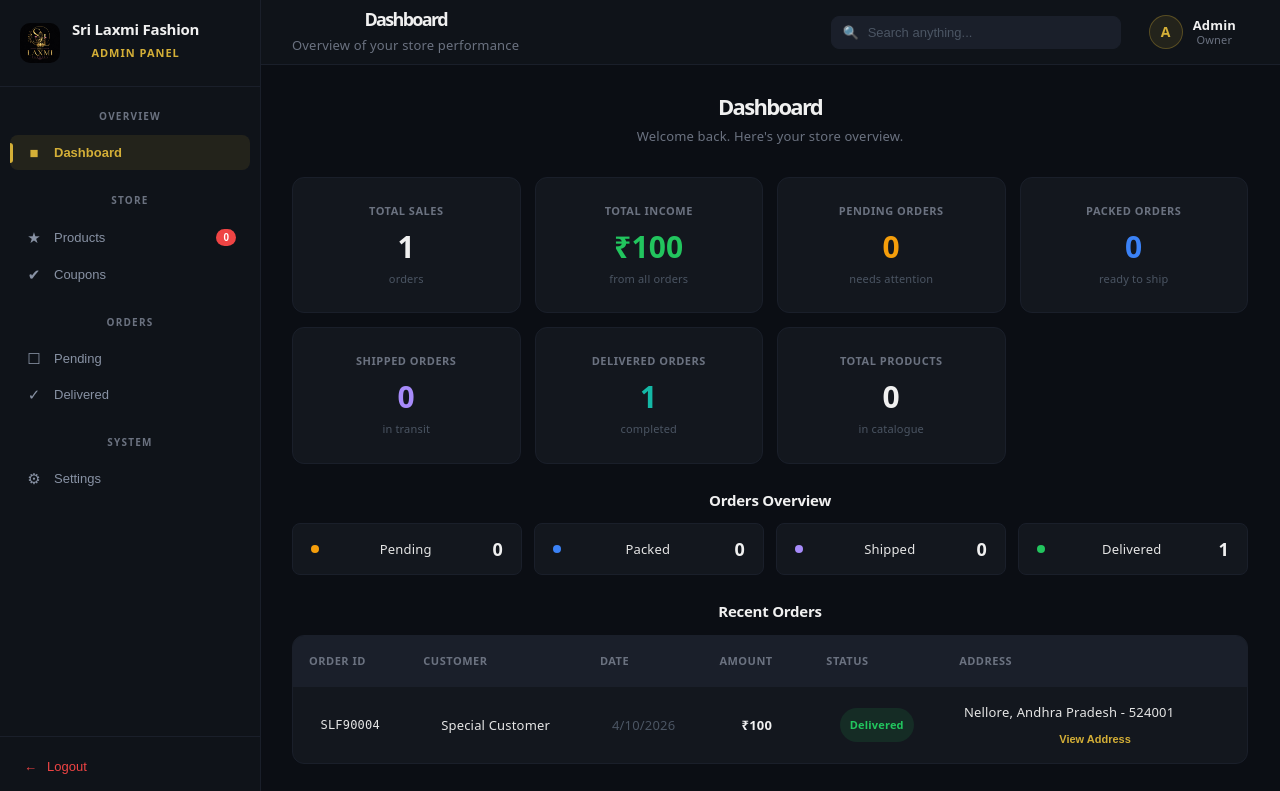
Test: Admin order cards: delivery address › preserves special characters and shows an optional landmark when present
The width and height of the screenshot is (1280, 791).
Click the button "✓ Delivered". click: [130, 395]
box: [10, 377, 250, 412]
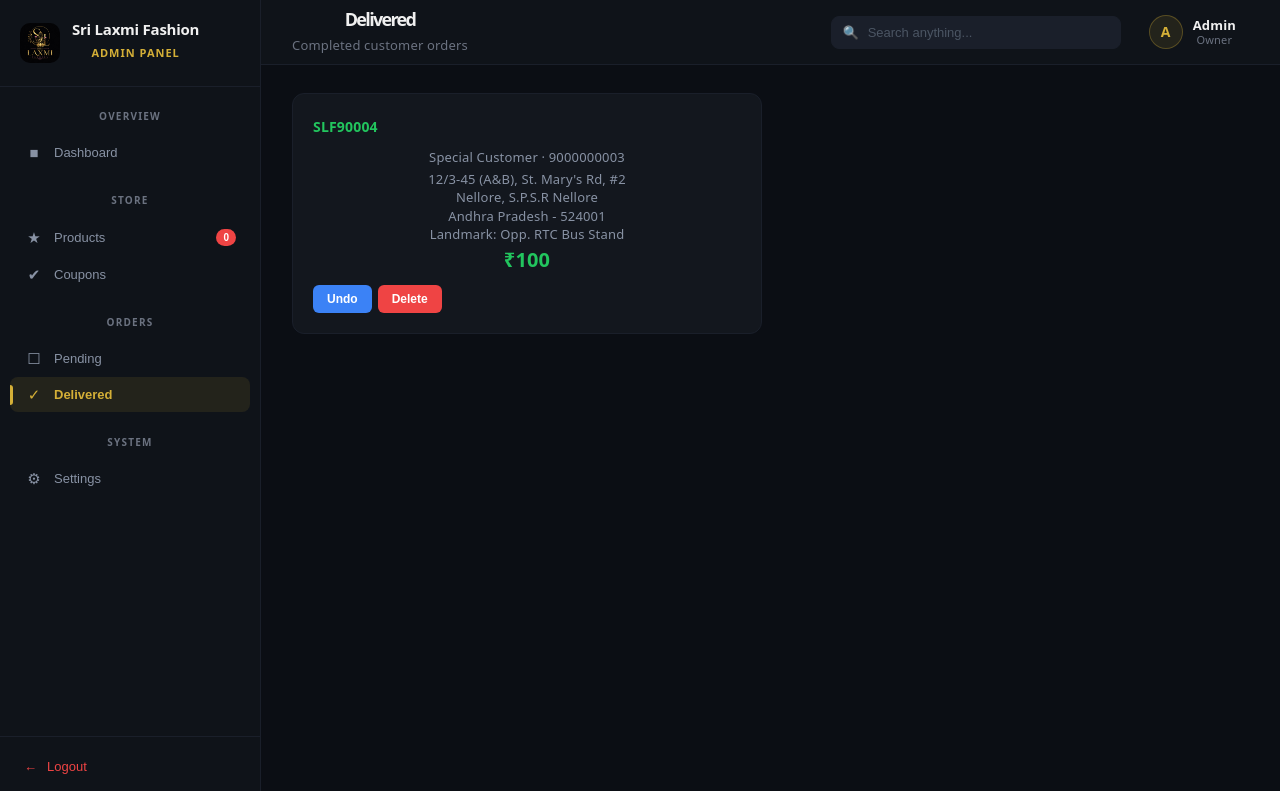
Now the element with class "admin-order-meta" that starts with "12/3-45 (A&B), St. Mary's Rd, #2" is shown, box [428, 170, 626, 243]
Now the element with class "admin-order-meta" shows "12/3-45 (A&B)", box [428, 170, 626, 188]
Now the element with class "admin-order-meta" shows "St. Mary's Rd, #2", box [428, 170, 626, 188]
